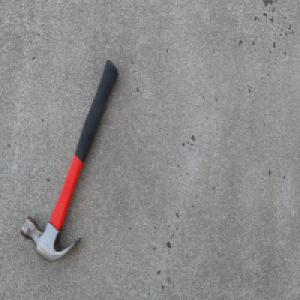Hammer: (20, 58, 119, 263)
